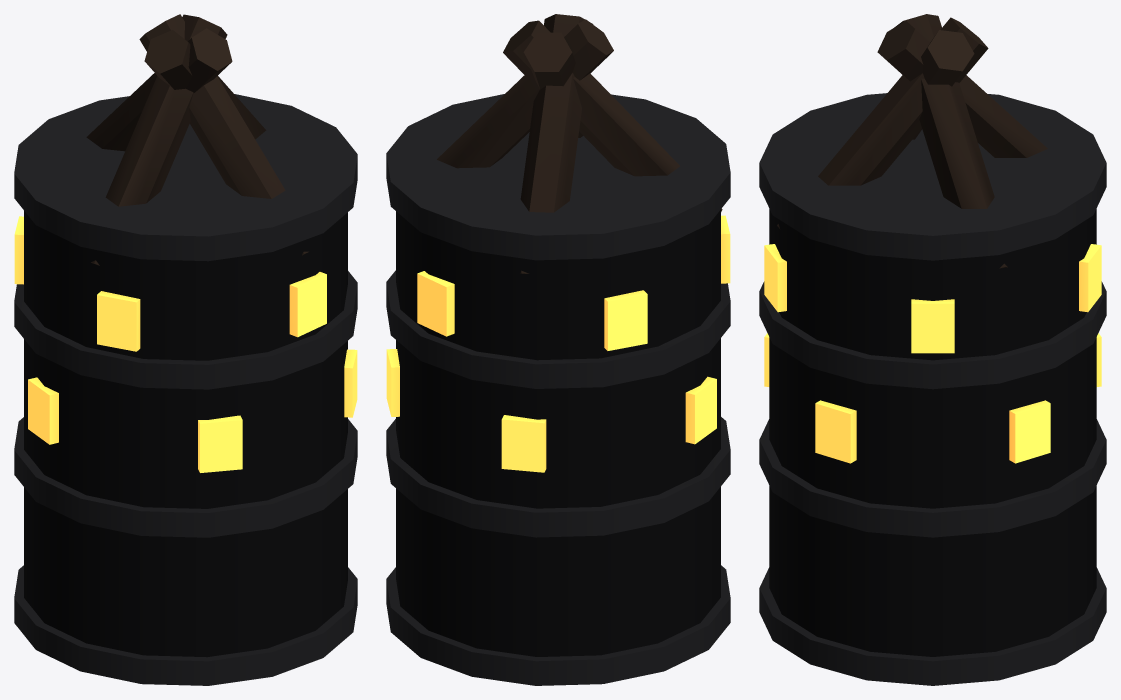
Rendered from fire_barrel.glb.
The picture shows the model from 3 angles, left to right: view 1: azimuth 30°, elevation 25°; view 2: azimuth 150°, elevation 25°; view 3: azimuth 270°, elevation 25°; orthographic projection.
Visible parts, largest first — view 1: FireBarrel; view 2: FireBarrel; view 3: FireBarrel.
Boxes of the visible parts, x1,y1,x2,y2 form: FireBarrel: (14,14,357,685); FireBarrel: (386,14,730,685); FireBarrel: (759,14,1106,685).
Size of the model in its own units: 0.636 by 1.19 by 0.636.
